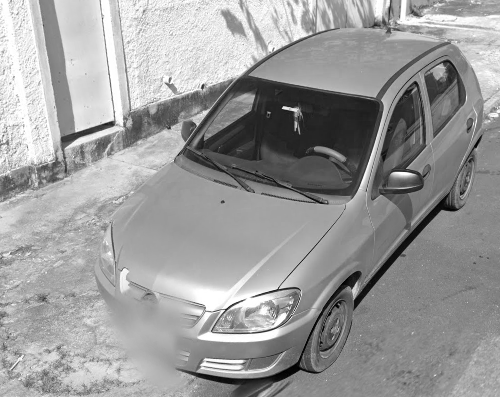car: (94, 27, 485, 382)
